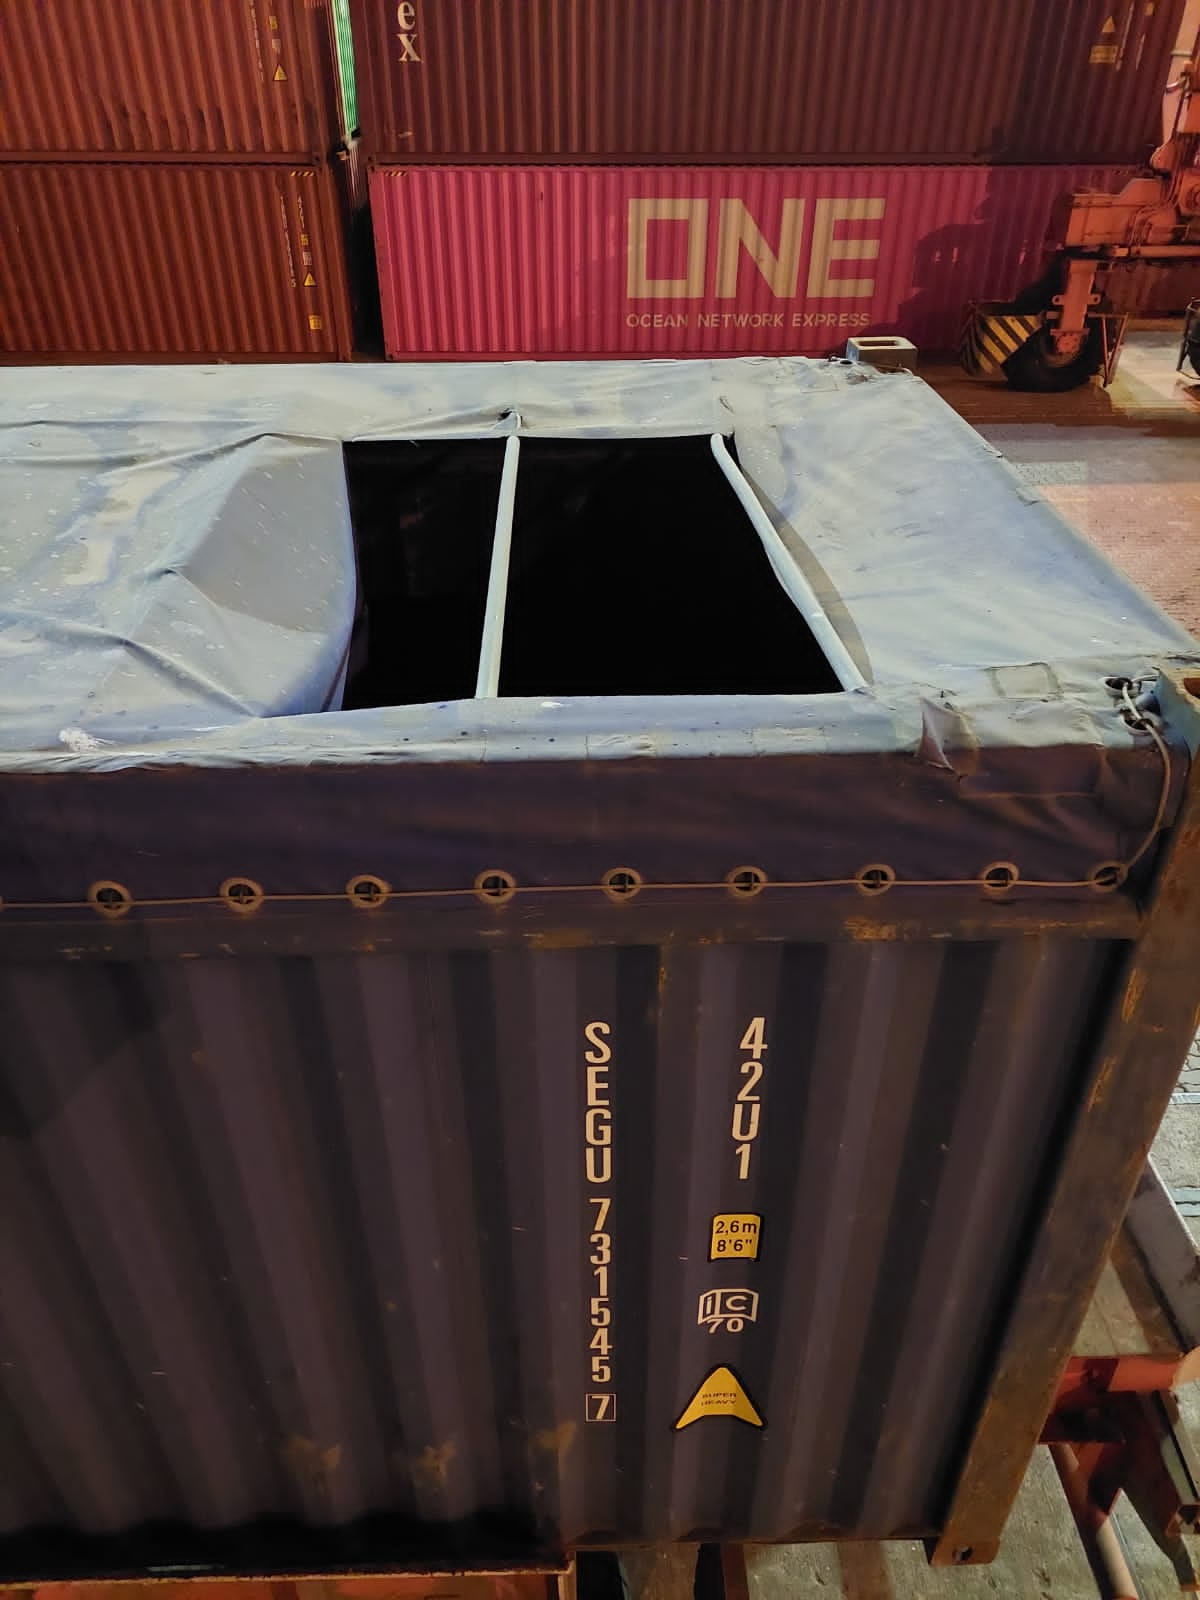severe: (209, 416, 877, 760)
